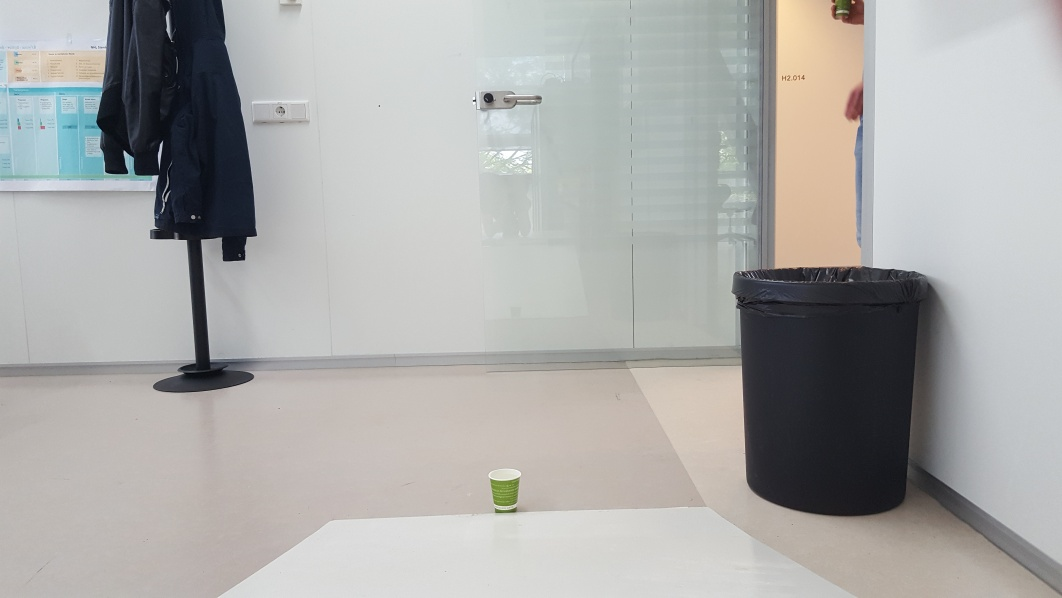cup: (486, 467, 523, 515)
